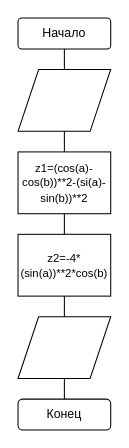
The diagram is 129 pixels wide and 448 high, and some of its shapes have lost their labels. Each missing label, with the centre of its shape:
"Ввод a, b" belongs at point 64,99.
"Вывод z1,z2 округляем до тысячных" belongs at point 64,347.
